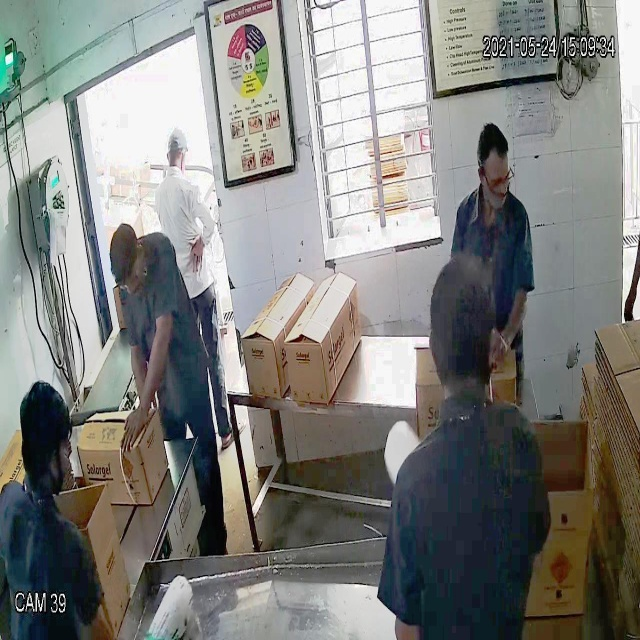Gafas: (475, 154, 516, 196)
